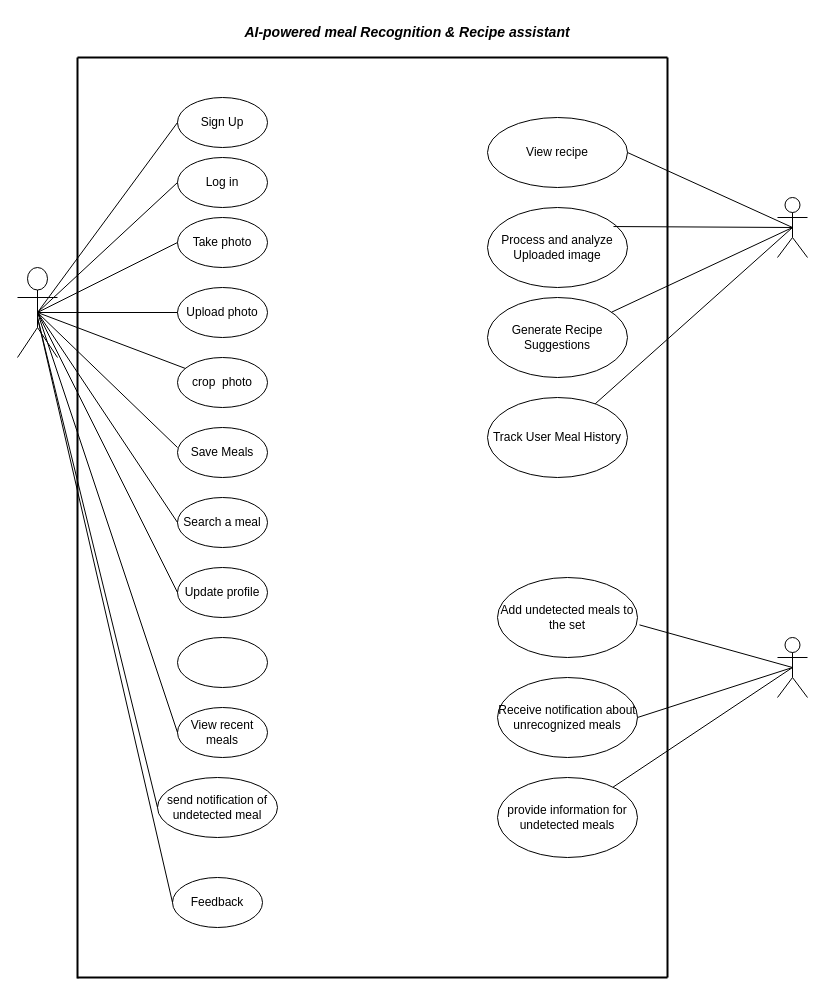
Some shapes in this 833 by 997 pixel diagram are drawn without their labels. The shapes that lost their labels are listed below. From the top down, each one's box as (x1, y1, x2, y2) in pixels, then its label:
(776, 196, 808, 258): System
(16, 266, 58, 358): User
(176, 636, 268, 688): Delete account
(776, 636, 808, 698): Manager
